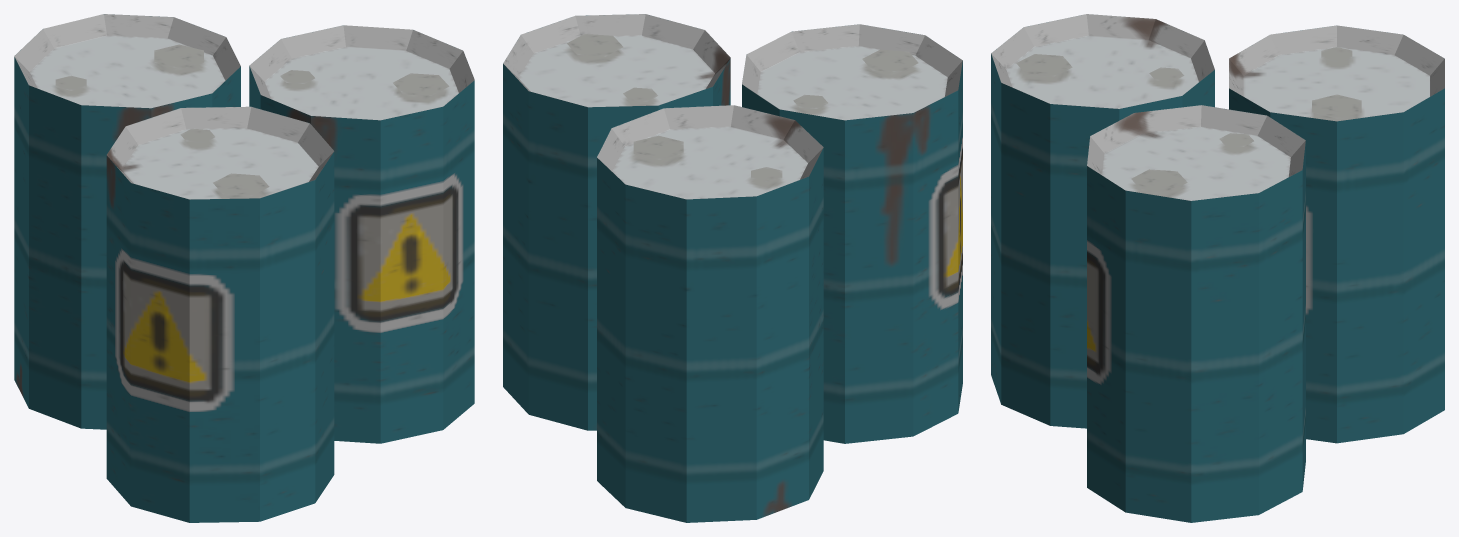
Rendered from SM_OilDrums.fbx.
3 renders of one model, left to right at view 1: azimuth 30°, elevation 25°; view 2: azimuth 150°, elevation 25°; view 3: azimuth 270°, elevation 25°, orthographic.
Parts seen in each view (by area): view 1: SM_OilDrums; view 2: SM_OilDrums; view 3: SM_OilDrums.
Part boxes in pixels (box(x1,y1,x2,y2)): SM_OilDrums: box(14, 14, 474, 522); SM_OilDrums: box(503, 14, 962, 522); SM_OilDrums: box(991, 14, 1444, 522).
Bounding box in the file's own units: 0.3735 × 0.3 × 0.3831.
1 material, 1 textured.
